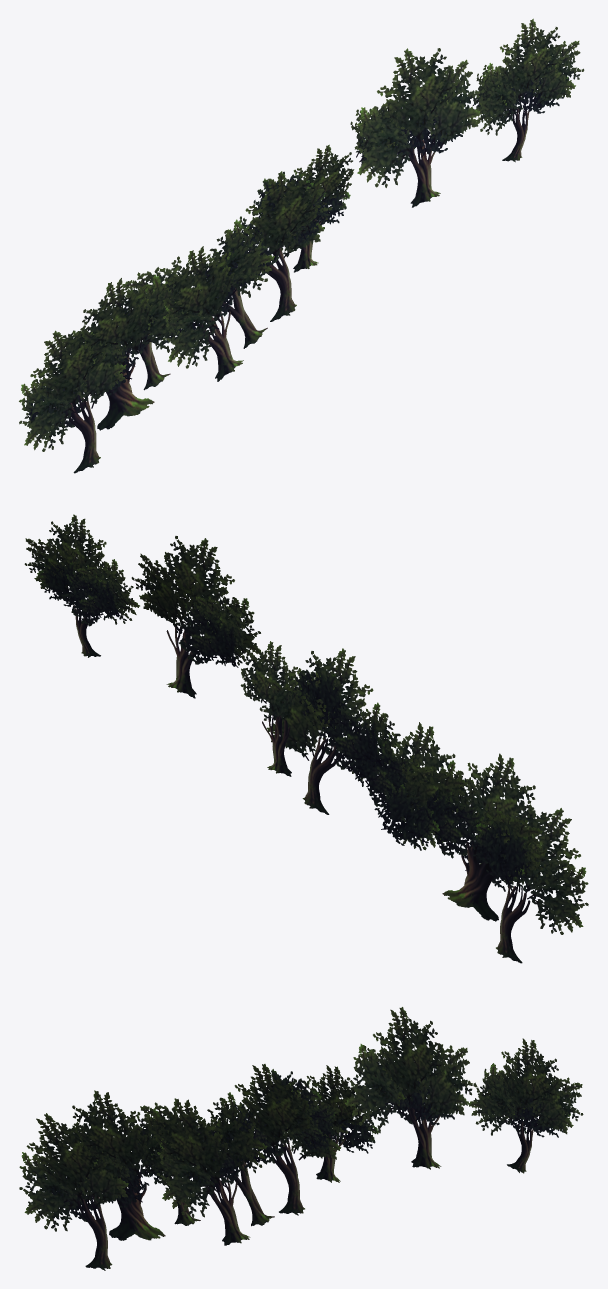
The model's file is Dark Forest Scary Tree Groups Part 5.FBX.
The picture shows the model from 3 angles, top to bottom: view 1: azimuth 30°, elevation 25°; view 2: azimuth 150°, elevation 25°; view 3: azimuth 330°, elevation 25°; orthographic projection.
Parts seen in each view (by area): view 1: Trees BG Part 5; view 2: Trees BG Part 5; view 3: Trees BG Part 5.
Part boxes in pixels (x1,y1,x2,y2): Trees BG Part 5: (19, 18, 584, 473); Trees BG Part 5: (24, 514, 588, 963); Trees BG Part 5: (19, 1007, 583, 1270).
Bounding box in the file's own units: 2466 × 176 × 1456.
